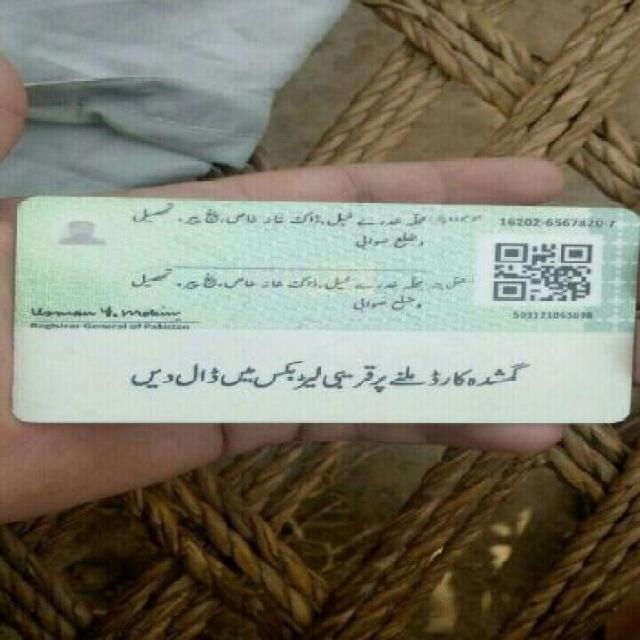Back: (11, 189, 632, 431)
